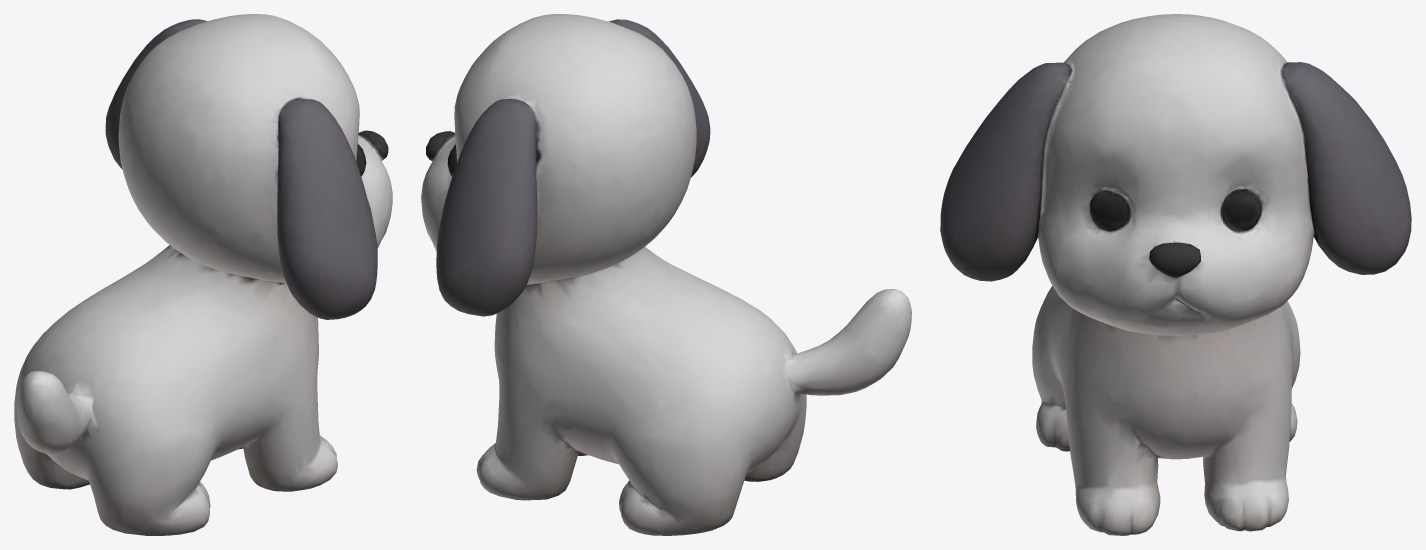
Rendered from pet-dog.glb.
3 renders of one model, left to right at view 1: azimuth 30°, elevation 25°; view 2: azimuth 150°, elevation 25°; view 3: azimuth 270°, elevation 25°, orthographic. The views are drawn at different scales.
Visible parts, largest first — view 1: tripo_node_420ff6b1-ccf0-4136-b231-5ab4b75fcd4a; view 2: tripo_node_420ff6b1-ccf0-4136-b231-5ab4b75fcd4a; view 3: tripo_node_420ff6b1-ccf0-4136-b231-5ab4b75fcd4a.
Part boxes in pixels (left/top/right/bottom): tripo_node_420ff6b1-ccf0-4136-b231-5ab4b75fcd4a: left=14, top=14, right=392, bottom=535; tripo_node_420ff6b1-ccf0-4136-b231-5ab4b75fcd4a: left=421, top=14, right=911, bottom=535; tripo_node_420ff6b1-ccf0-4136-b231-5ab4b75fcd4a: left=940, top=14, right=1411, bottom=535.
Bounding box in the file's own units: 1 × 0.9998 × 0.8876.
Materials: 1 (1 with a texture image).
